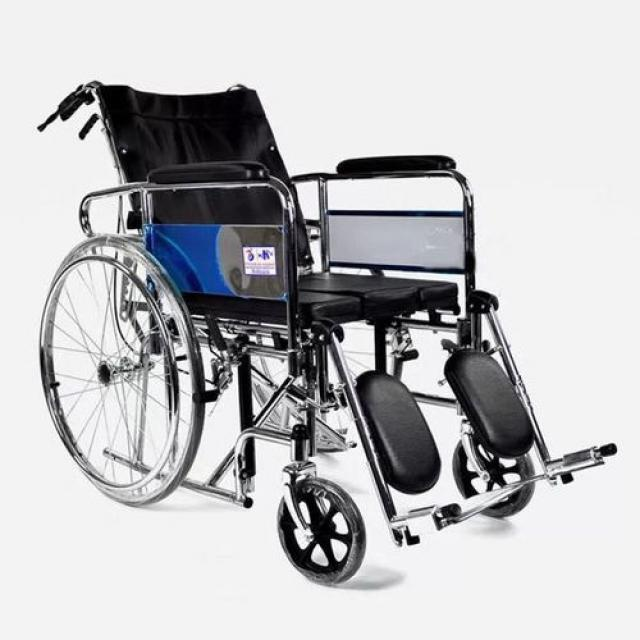wheelchair: (18, 61, 639, 592)
